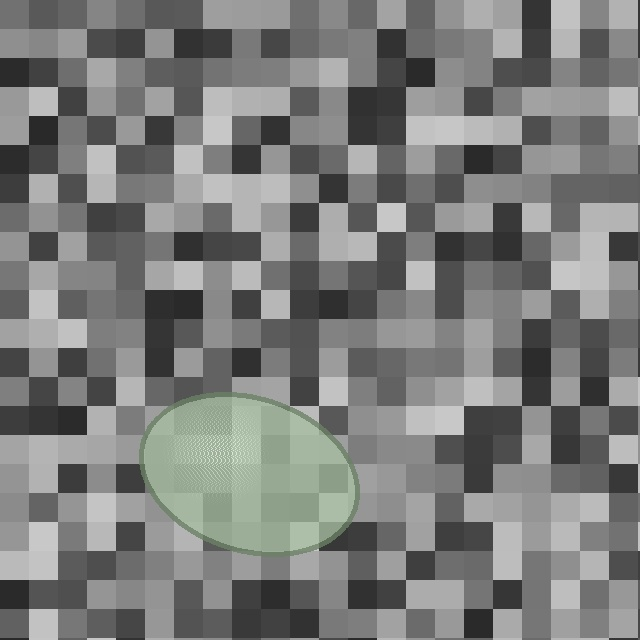lens: (141, 394, 357, 554)
